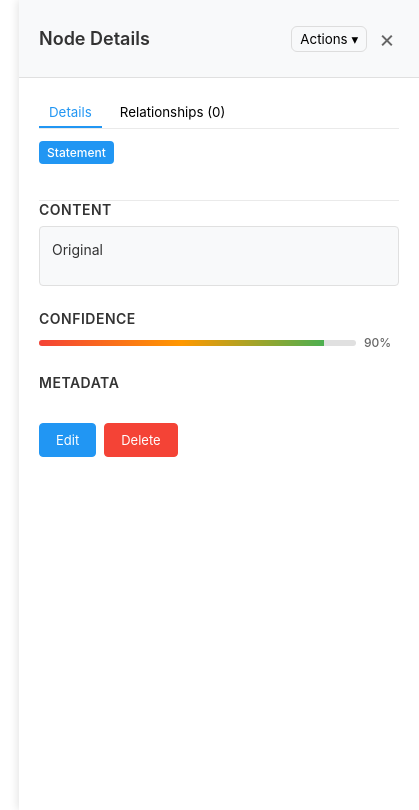
it: NodeDetailPanel edit mode › swaps the content for a focused textarea and Save/Cancel buttons
Click the button "Edit".
click(68, 440)  # box [39,423,96,457]
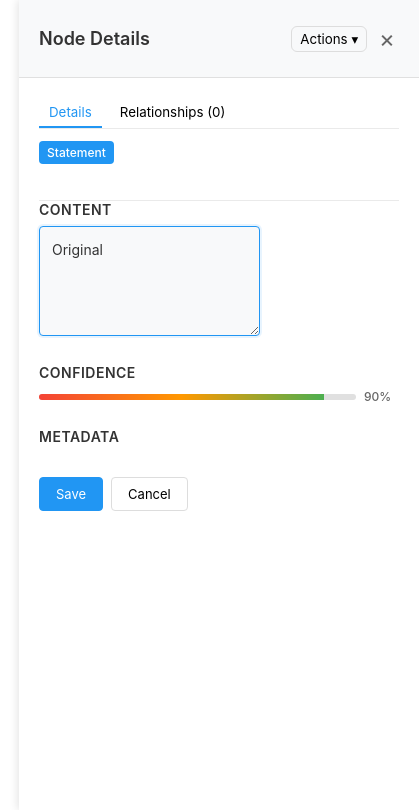
Expected: the text box holds "Original", [39,226,260,336]
Expected: the button "Save" is shown, [39,477,103,511]
Expected: the button "Cancel" is shown, [111,477,188,511]
